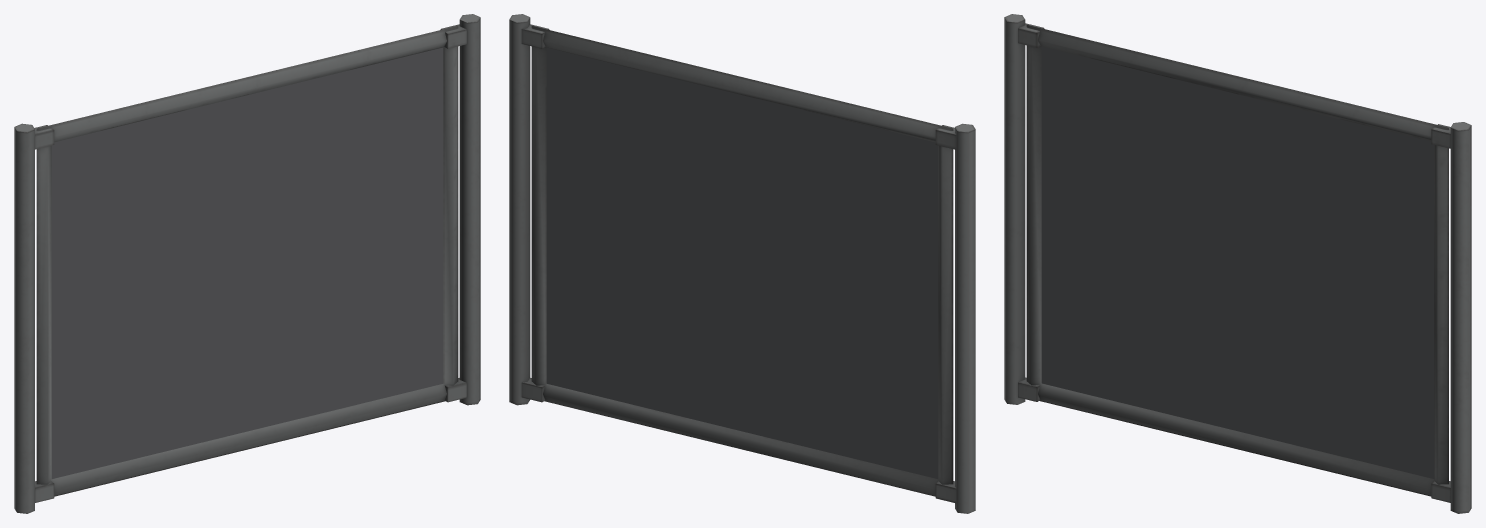
Rendered from sb_obj_ModernCity107_fence_a.fbx.
3 views of the same model, side by side, from view 1: azimuth 30°, elevation 25°; view 2: azimuth 150°, elevation 25°; view 3: azimuth 330°, elevation 25° (orthographic).
Visible parts, largest first — view 1: sb_obj_ModernCity107_fence_a; view 2: sb_obj_ModernCity107_fence_a; view 3: sb_obj_ModernCity107_fence_a.
Boxes of the visible parts, box(x1,y1,x2,y2) form: sb_obj_ModernCity107_fence_a: box(14, 14, 480, 513); sb_obj_ModernCity107_fence_a: box(509, 14, 975, 513); sb_obj_ModernCity107_fence_a: box(1004, 14, 1471, 513).
Size of the model in its own units: 1.04 by 0.8204 by 0.041.
2 materials, 2 textured.
